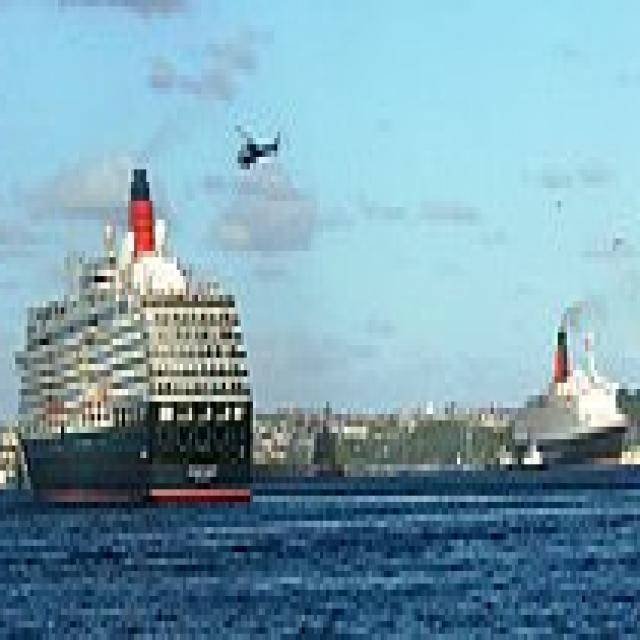Cruise: (15, 163, 259, 502), (515, 314, 634, 464)
